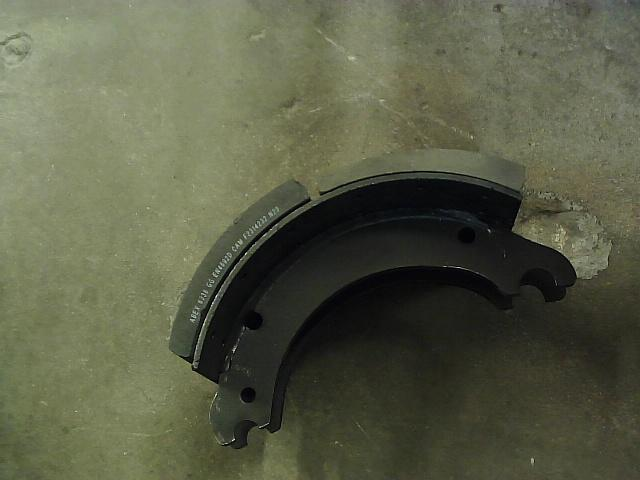brake-shoes: (167, 144, 575, 450)
